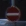No entry: (5, 5, 21, 21)
